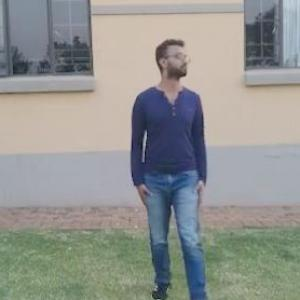follow: (123, 19, 219, 285)
